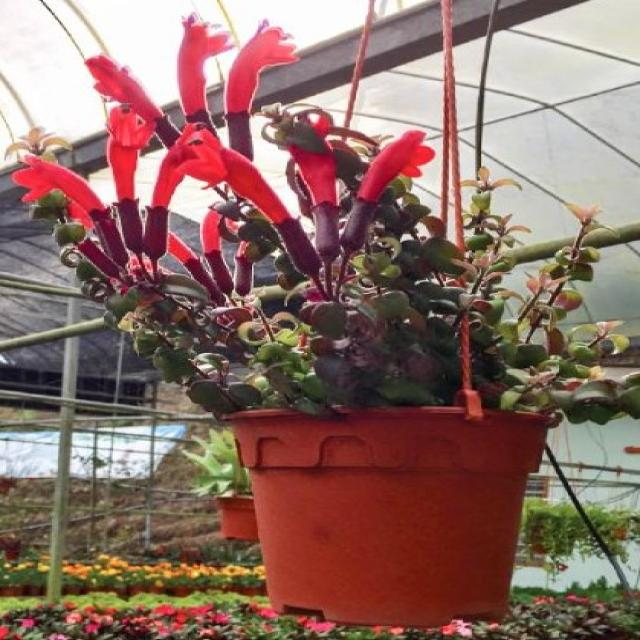Lipstick-Plant: (14, 7, 440, 281)
